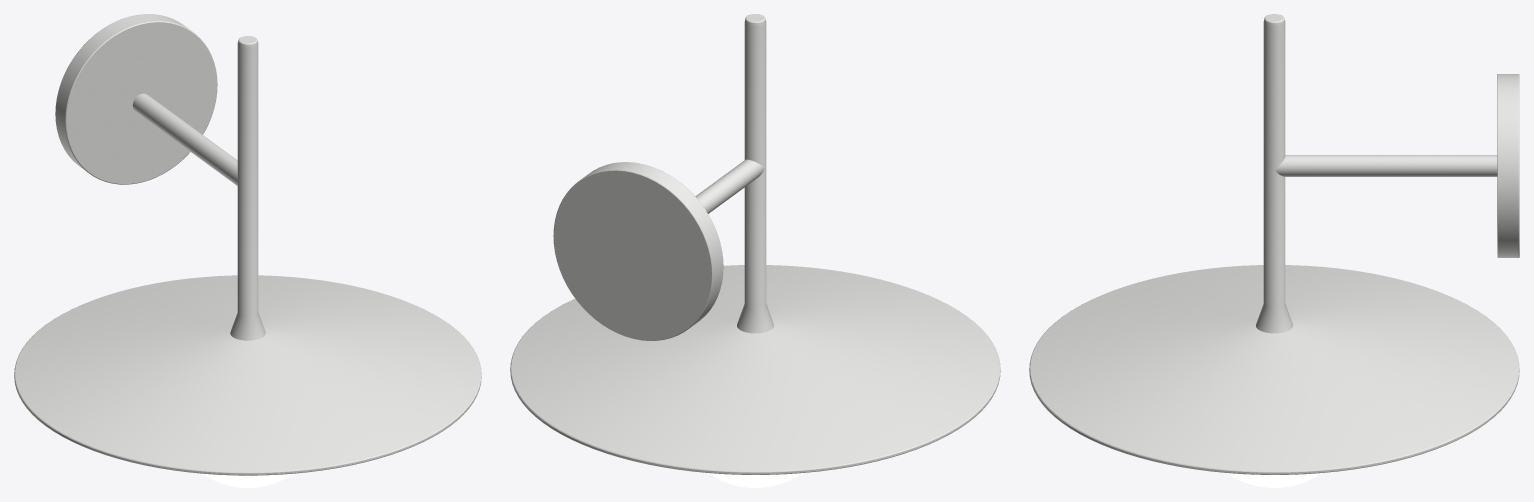
File: glass-shade-swing-arm-wall-lamp.glb
3 views of the same model, side by side, from view 1: azimuth 30°, elevation 25°; view 2: azimuth 150°, elevation 25°; view 3: azimuth 270°, elevation 25° (orthographic). The views are drawn at different scales.
Visible parts, largest first — view 1: DiscShade, WallDisc, Stem, Arm, OpalGlobe; view 2: DiscShade, WallDisc, Stem, Arm, OpalGlobe; view 3: DiscShade, Stem, Arm, WallDisc, OpalGlobe.
Part boxes in pixels (box(x1,y1,x2,y2)): DiscShade: box(14, 275, 481, 475); WallDisc: box(55, 14, 217, 184); Stem: box(230, 36, 265, 340); Arm: box(132, 93, 238, 185); OpalGlobe: box(203, 473, 292, 487); DiscShade: box(510, 265, 1000, 474); WallDisc: box(553, 162, 723, 340); Stem: box(737, 14, 773, 333); Arm: box(695, 159, 764, 213); OpalGlobe: box(708, 473, 802, 487); DiscShade: box(1029, 265, 1519, 474); Stem: box(1256, 14, 1292, 333); Arm: box(1275, 155, 1497, 176); WallDisc: box(1497, 74, 1519, 257); OpalGlobe: box(1227, 473, 1321, 487).
Size of the model in its own units: 0.2499 by 0.2601 by 0.2499.
Materials: 2 (1 with a texture image).
